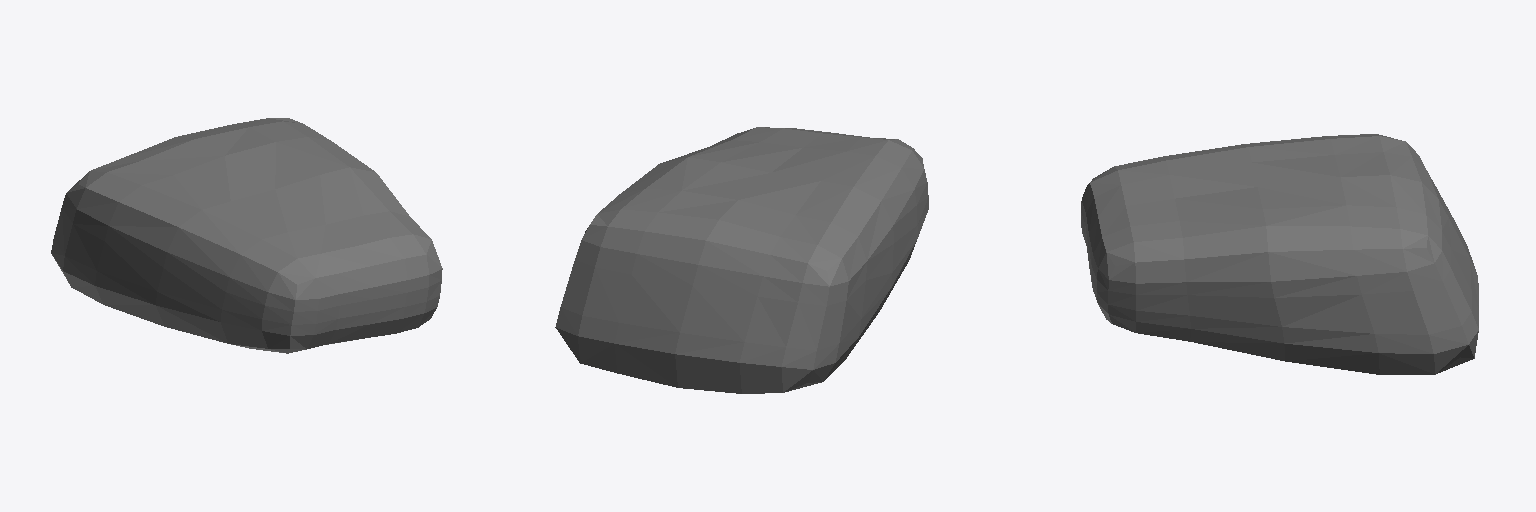
Rendered from Rock_3.obj.
The picture shows the model from 3 angles: view 1: azimuth 30°, elevation 25°; view 2: azimuth 150°, elevation 25°; view 3: azimuth 270°, elevation 25°; orthographic projection.
Parts seen in each view (by area): view 1: Rock2 Rocks; view 2: Rock2 Rocks; view 3: Rock2 Rocks.
Part boxes in pixels (left/top/right/bottom): Rock2 Rocks: left=51, top=118, right=442, bottom=353; Rock2 Rocks: left=555, top=127, right=928, bottom=393; Rock2 Rocks: left=1081, top=134, right=1478, bottom=374.
Bounding box in the file's own units: 133 × 75.79 × 175.